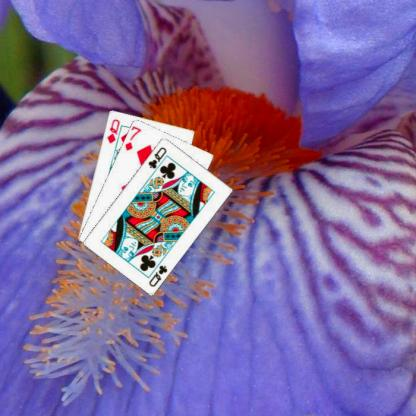7D: (122, 124, 142, 152)
QC: (146, 262, 169, 288), (146, 144, 168, 170)
QD: (104, 116, 121, 144)
